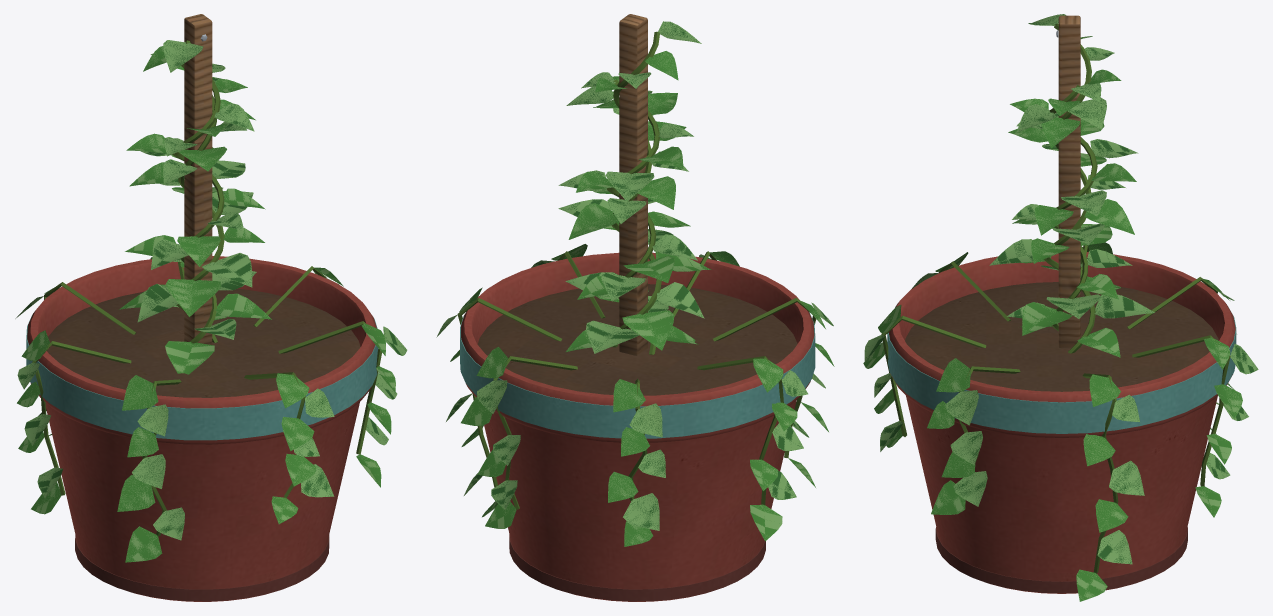
The model's file is potted_vine.glb.
The picture shows the model from 3 angles, left to right: view 1: azimuth 30°, elevation 25°; view 2: azimuth 150°, elevation 25°; view 3: azimuth 270°, elevation 25°; orthographic projection.
Visible parts, largest first — view 1: PottedVineBody; view 2: PottedVineBody; view 3: PottedVineBody.
Boxes of the visible parts, x1,y1,x2,y2 form: PottedVineBody: [15, 14, 407, 601]; PottedVineBody: [436, 14, 834, 601]; PottedVineBody: [863, 14, 1258, 601].
Size of the model in its own units: 0.486 by 0.715 by 0.4897.
10 materials, 6 textured.
